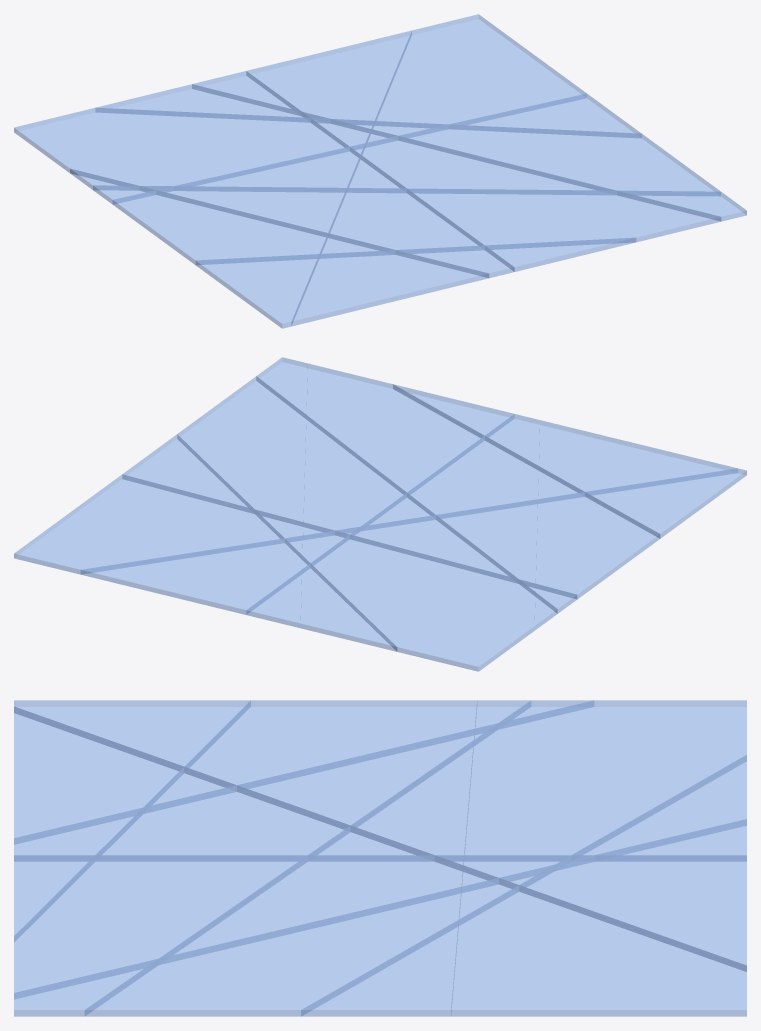
Rendered from Glass_Broken.FBX.
3 renders of one model, top to bottom at view 1: azimuth 30°, elevation 25°; view 2: azimuth 150°, elevation 25°; view 3: azimuth 270°, elevation 25°, orthographic. The views are drawn at different scales.
Parts seen in each view (by area): view 1: Plane018, Plane004, Plane014, Plane011, Plane024, Plane002, Plane030, Plane013, Plane027, Plane021, Plane025, Plane020 (+12 smaller); view 2: Plane018, Plane004, Plane014, Plane011, Plane002, Plane024, Plane030, Plane013, Plane027, Plane025, Plane021, Plane020 (+12 smaller); view 3: Plane018, Plane004, Plane014, Plane011, Plane024, Plane002, Plane013, Plane030, Plane027, Plane021, Plane025, Plane005 (+14 smaller).
Boxes of the visible parts, x1,y1,x2,y2 form: Plane018: [14, 107, 349, 189]; Plane004: [375, 14, 586, 127]; Plane014: [407, 188, 721, 249]; Plane011: [398, 124, 720, 196]; Plane024: [112, 190, 327, 264]; Plane002: [246, 30, 411, 125]; Plane030: [291, 250, 489, 326]; Plane013: [361, 136, 616, 194]; Plane027: [328, 188, 484, 253]; Plane021: [156, 186, 346, 236]; Plane025: [195, 254, 318, 328]; Plane020: [174, 146, 360, 192]; Plane018: [311, 534, 535, 671]; Plane004: [14, 474, 284, 574]; Plane014: [306, 363, 484, 494]; Plane011: [177, 376, 306, 526]; Plane002: [80, 538, 302, 614]; Plane024: [535, 492, 660, 599]; Plane030: [539, 420, 737, 495]; Plane013: [303, 415, 406, 533]; Plane027: [407, 436, 538, 518]; Plane025: [585, 468, 746, 538]; Plane021: [436, 499, 537, 587]; Plane020: [350, 515, 518, 583]; Plane018: [464, 700, 746, 861]; Plane004: [451, 885, 746, 1016]; Plane014: [14, 855, 307, 998]; Plane011: [84, 887, 461, 1016]; Plane024: [184, 700, 476, 788]; Plane002: [519, 855, 746, 971]; Plane013: [159, 855, 463, 964]; Plane030: [14, 706, 183, 844]; Plane027: [95, 785, 350, 861]; Plane021: [237, 729, 474, 829]; Plane025: [14, 700, 250, 770]; Plane005: [301, 920, 458, 1016].
Bounding box in the file's own units: 500 × 5 × 500.
